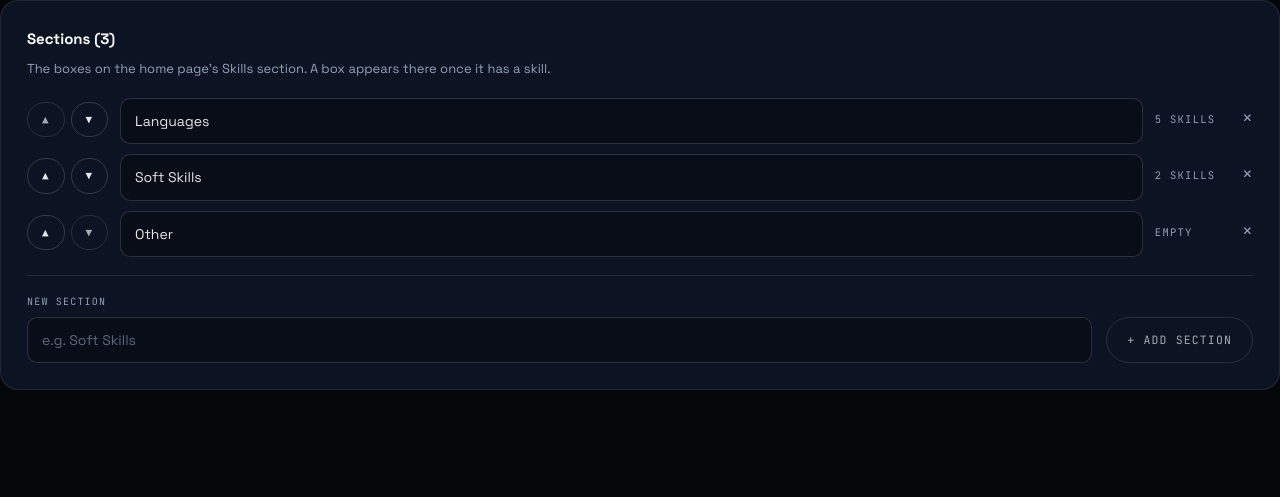
Test: rename and reorder are STAGED › a server refusal goes to the banner
The image size is (1280, 497).
In the field next to "EMPTY": [631, 234] box [120,211,1143,257], type "s"
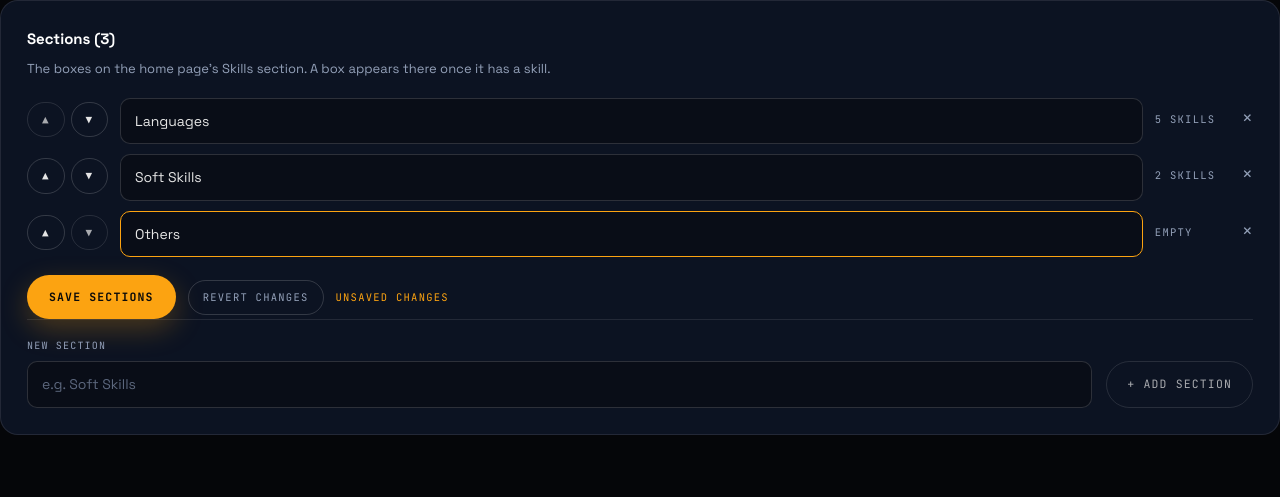
Click the button "SAVE SECTIONS": [101, 297] box [27,275,176,319]
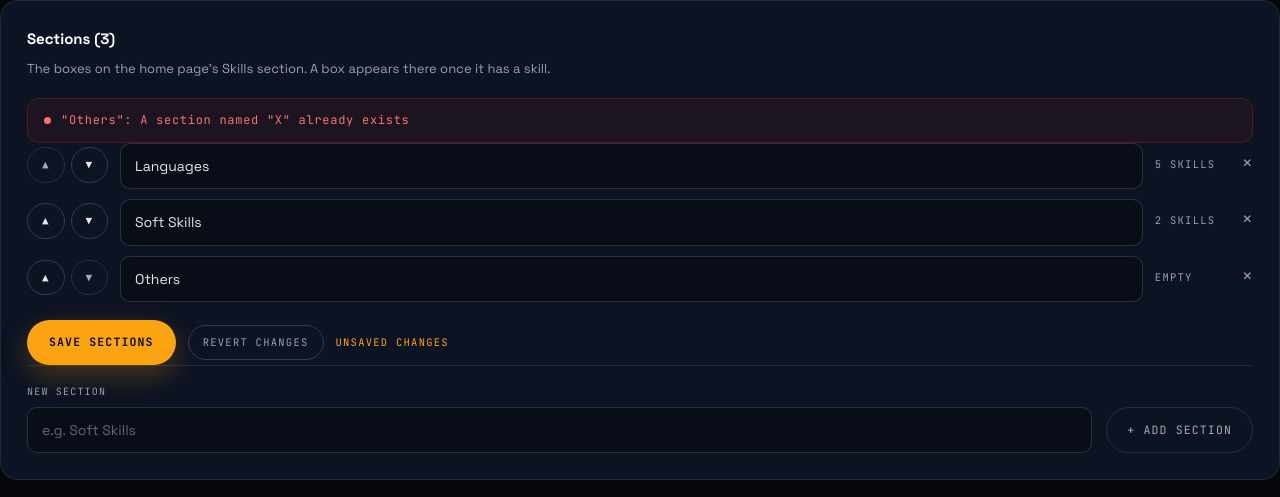
Expected: the text "\"Others\": A section named \"X\" already exists" is shown, [61,111,410,130]
